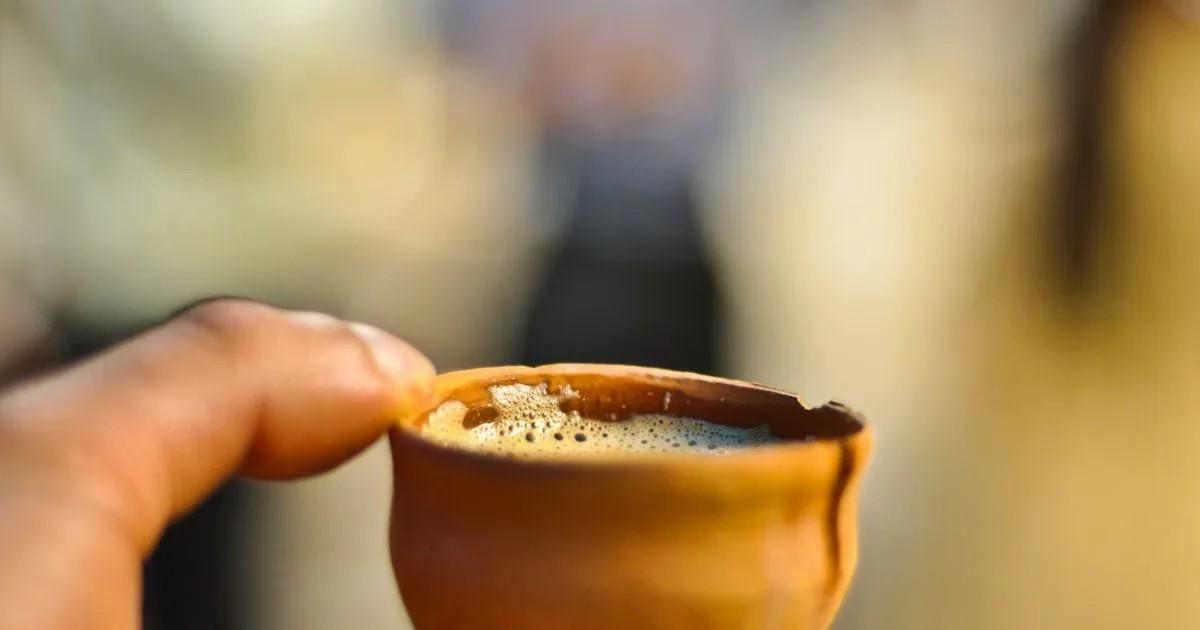Chai: (441, 382, 835, 449)
